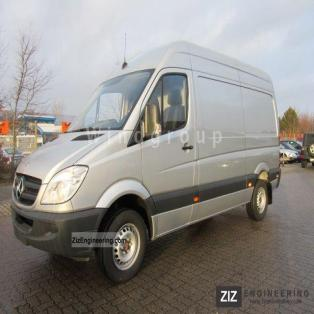Auto: (12, 42, 281, 282)
